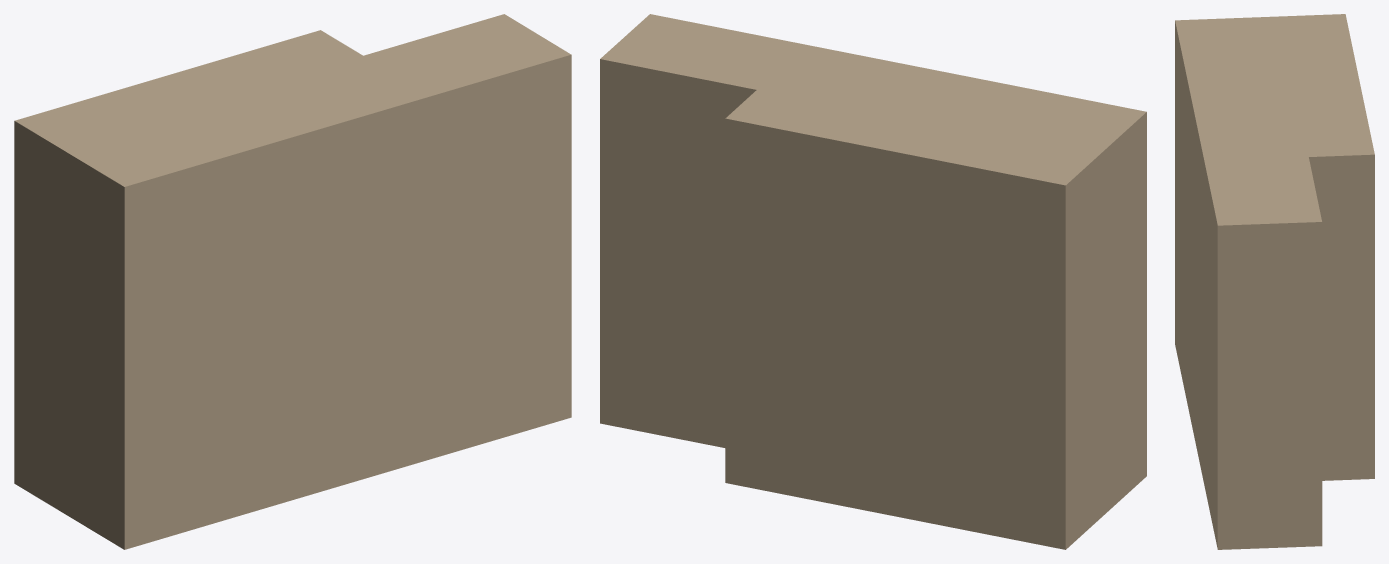
The model's file is bld_101572404.dae.
The picture shows the model from 3 angles, left to right: view 1: azimuth 30°, elevation 25°; view 2: azimuth 150°, elevation 25°; view 3: azimuth 270°, elevation 25°; orthographic projection. The views are drawn at different scales.
Parts seen in each view (by area): view 1: bld_101572404; view 2: bld_101572404; view 3: bld_101572404.
Boxes of the visible parts, x1,y1,x2,y2 form: bld_101572404: (14,14,571,549); bld_101572404: (600,14,1146,549); bld_101572404: (1175,14,1374,549).
Size of the model in its own units: 11.2 by 4.47 by 8.
